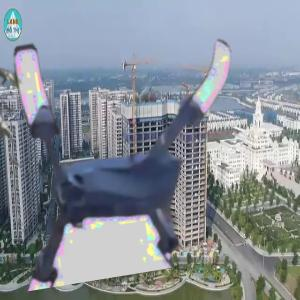drone: (2, 17, 260, 275)
